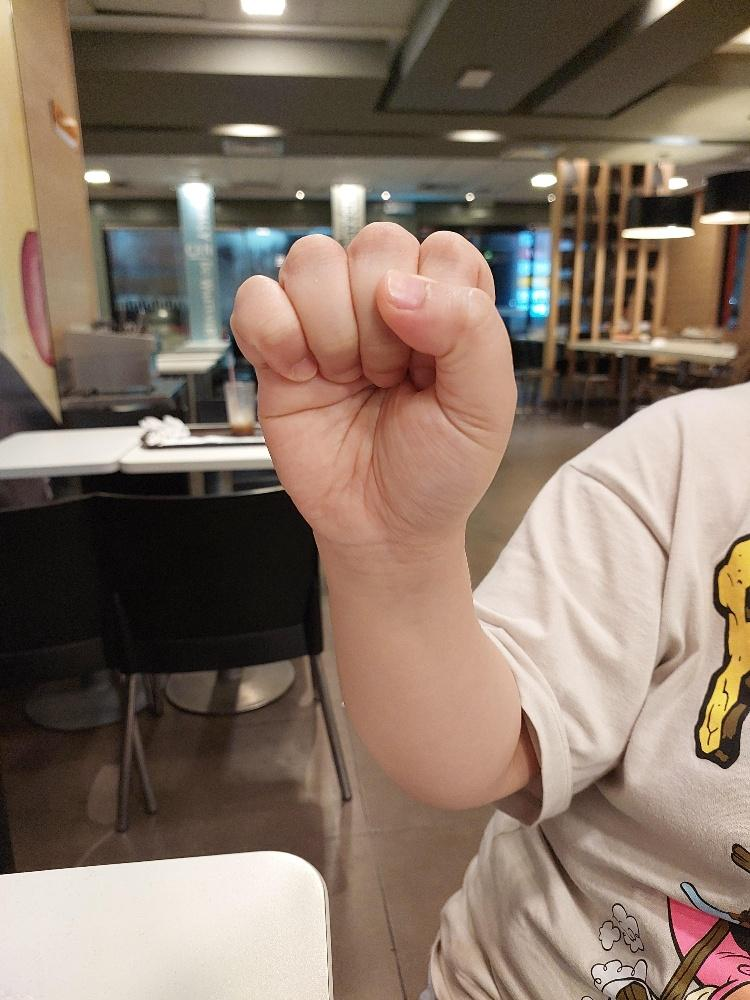s: (225, 217, 518, 548)
